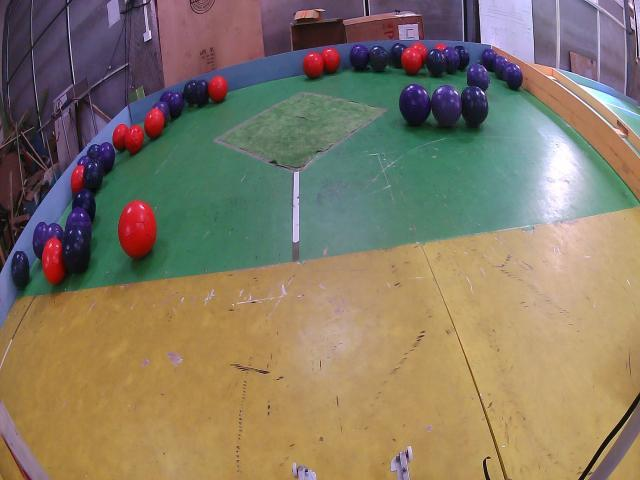jambhalya: (399, 83, 431, 127), (432, 85, 461, 126), (66, 207, 92, 238), (467, 63, 489, 92), (32, 222, 48, 258), (96, 142, 115, 172), (350, 45, 370, 70), (504, 64, 522, 90), (443, 47, 460, 73), (167, 94, 184, 118), (153, 101, 170, 125), (44, 224, 64, 244), (494, 55, 508, 80), (482, 48, 496, 72), (160, 90, 172, 102), (78, 155, 90, 164)
kaalyya: (63, 225, 91, 273), (461, 86, 489, 126), (73, 189, 96, 222), (11, 252, 30, 289), (84, 158, 104, 192), (426, 50, 446, 76), (369, 46, 389, 71), (195, 80, 210, 106), (390, 44, 406, 68), (455, 46, 470, 71), (184, 80, 196, 106), (87, 144, 98, 158)
